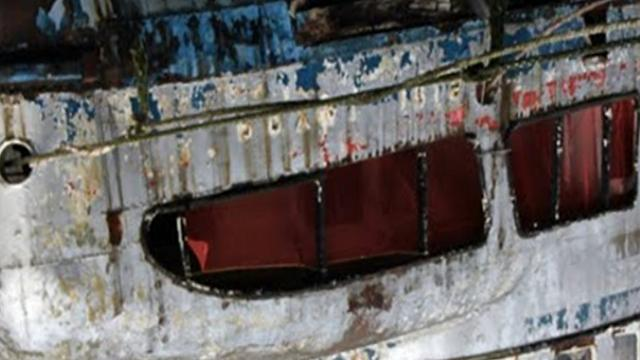rust: (180, 108, 395, 188), (75, 164, 134, 267), (340, 280, 406, 351), (481, 136, 512, 240)
